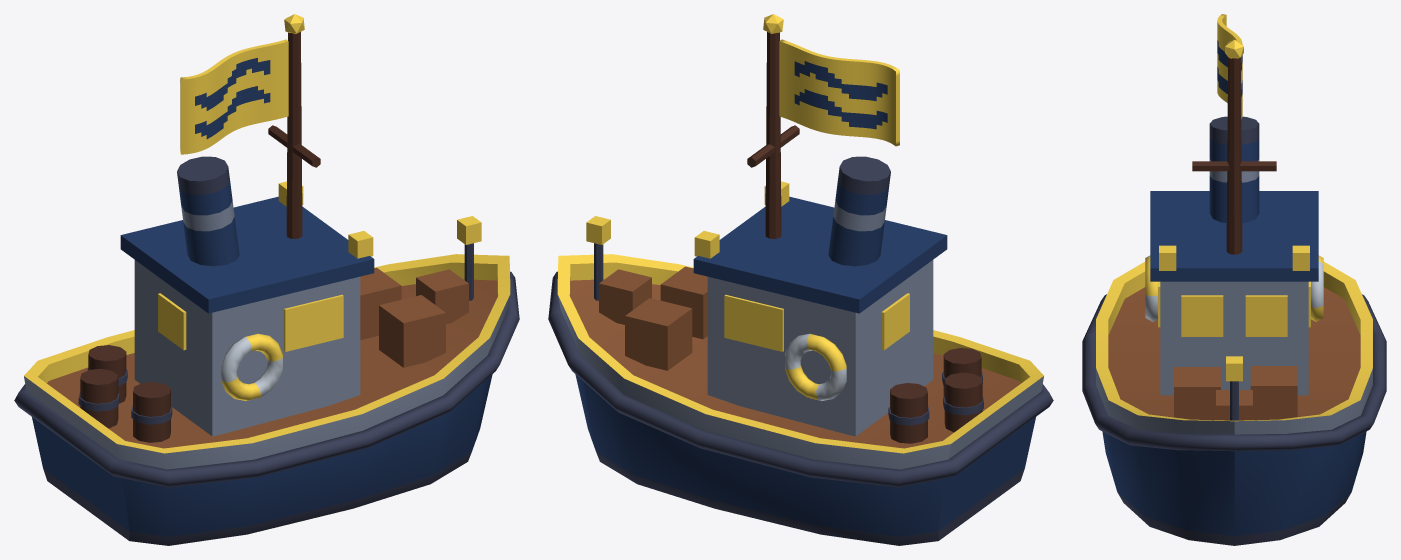
File: pixel-art-noche.glb
3 renders of one model, left to right at view 1: azimuth 30°, elevation 25°; view 2: azimuth 150°, elevation 25°; view 3: azimuth 270°, elevation 25°, orthographic. The views are drawn at different scales.
Visible parts, largest first — view 1: hull, cabin, roof, fender, flag, funnel, crate.001, mast, ring_stbd, barrel.001, barrel.002, crate.002 (+4 smaller); view 2: hull, cabin, roof, fender, flag, funnel, crate, mast, ring_port, barrel, crate.002, crate.001 (+4 smaller); view 3: hull, cabin, roof, fender, mast, funnel, crate, crate.001, flag, crate.002, ring_port, ring_stbd (+3 smaller).
Part boxes in pixels (x1,y1,x2,y2): hull: (24,254,510,545); cabin: (134,260,360,436); roof: (120,196,374,313); fender: (14,271,519,487); flag: (180,39,288,154); funnel: (177,156,239,266); crate.001: (379,295,445,367); mast: (268,32,320,238); ring_stbd: (221,333,282,400); barrel.001: (131,382,172,442); barrel.002: (78,369,119,428); crate.002: (416,269,468,323); hull: (557,254,1043,545); cabin: (707,260,933,436); roof: (693,196,947,313); fender: (548,271,1053,487); flag: (779,39,899,146); funnel: (828,156,890,266); crate: (625,298,692,370); mast: (747,32,799,238); ring_port: (785,333,846,400); barrel: (888,383,929,443); crate.002: (599,269,651,324); crate.001: (660,266,707,339); hull: (1096,261,1372,545); cabin: (1158,281,1310,395); roof: (1150,191,1318,281); fender: (1082,294,1386,451); mast: (1192,57,1276,254); funnel: (1209,116,1259,222); crate: (1250,366,1297,420); crate.001: (1174,367,1220,420); flag: (1217,14,1242,119); crate.002: (1216,390,1252,420); ring_port: (1311,255,1323,321); ring_stbd: (1145,255,1157,321).
Bounding box in the file's own units: 2.02 × 1.9 × 1.23.
